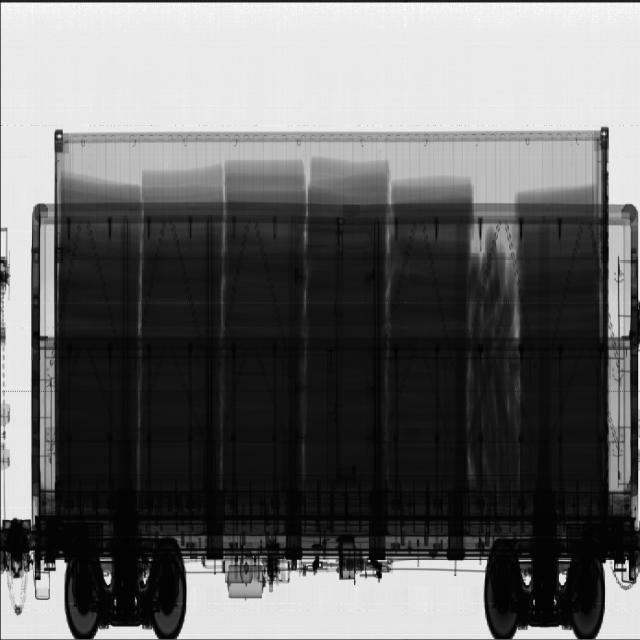fabrics: (58, 159, 604, 498)
